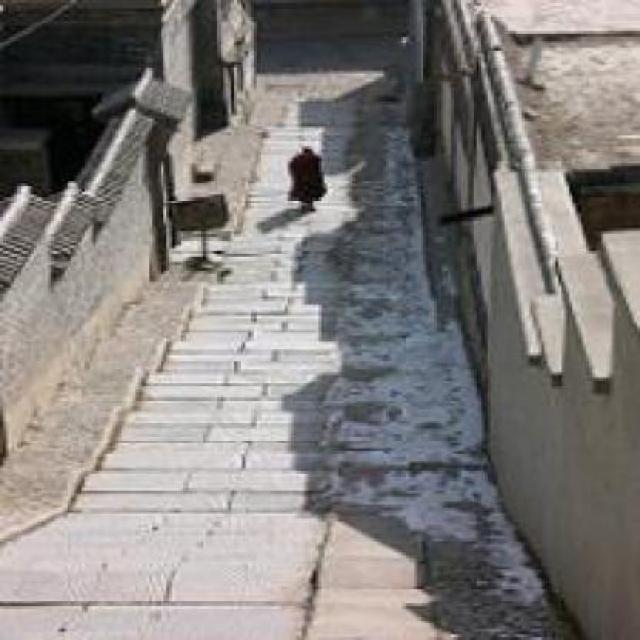stair: (74, 382, 420, 503)
